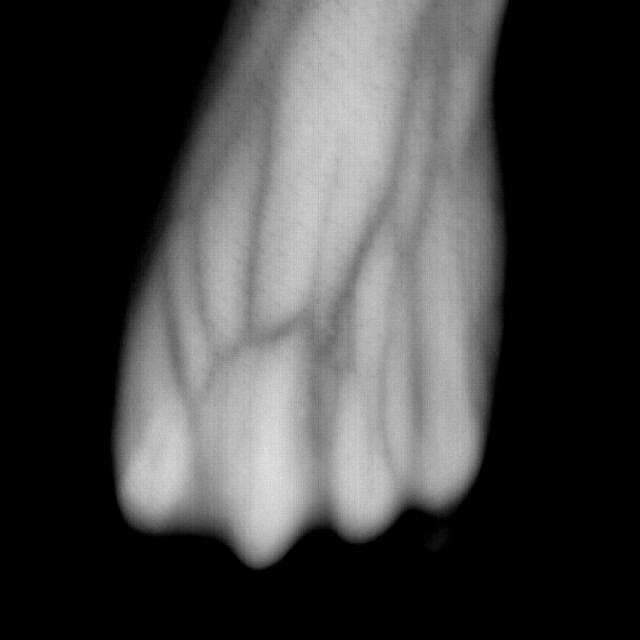Vein: (243, 102, 412, 360)
